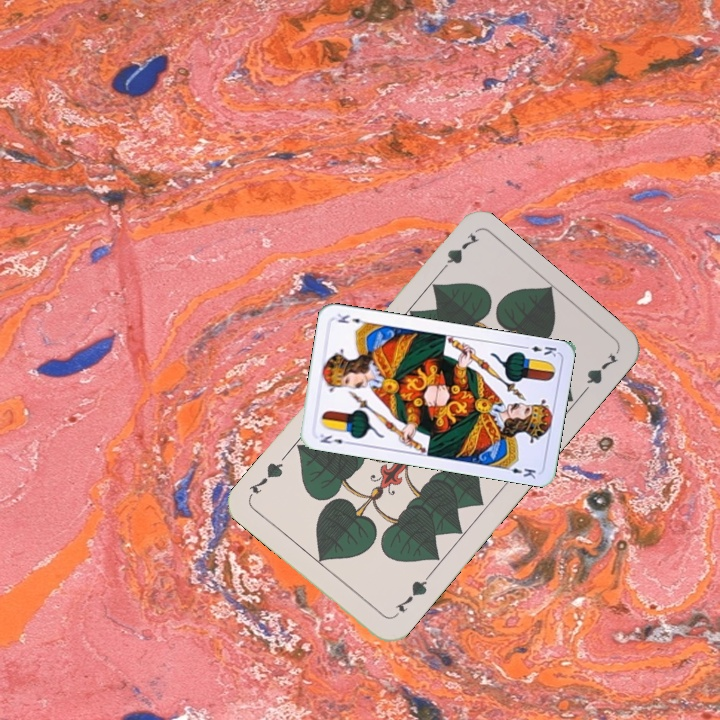EK: (519, 342, 559, 359), (316, 430, 353, 447)
G7: (433, 229, 482, 278), (389, 571, 432, 620)
